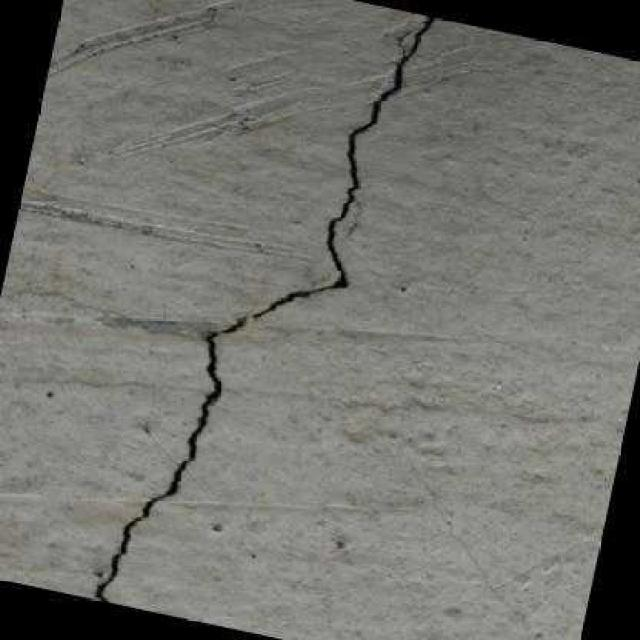D00: (89, 16, 435, 602)
